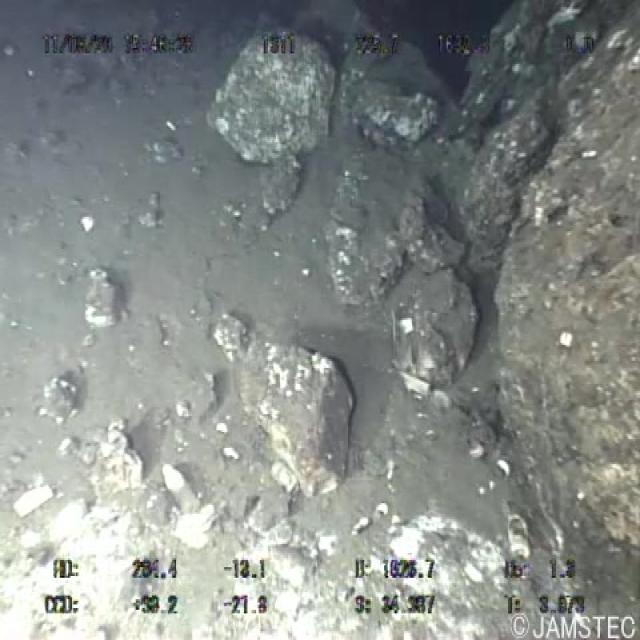plastic: (386, 306, 434, 404), (154, 455, 202, 514)
